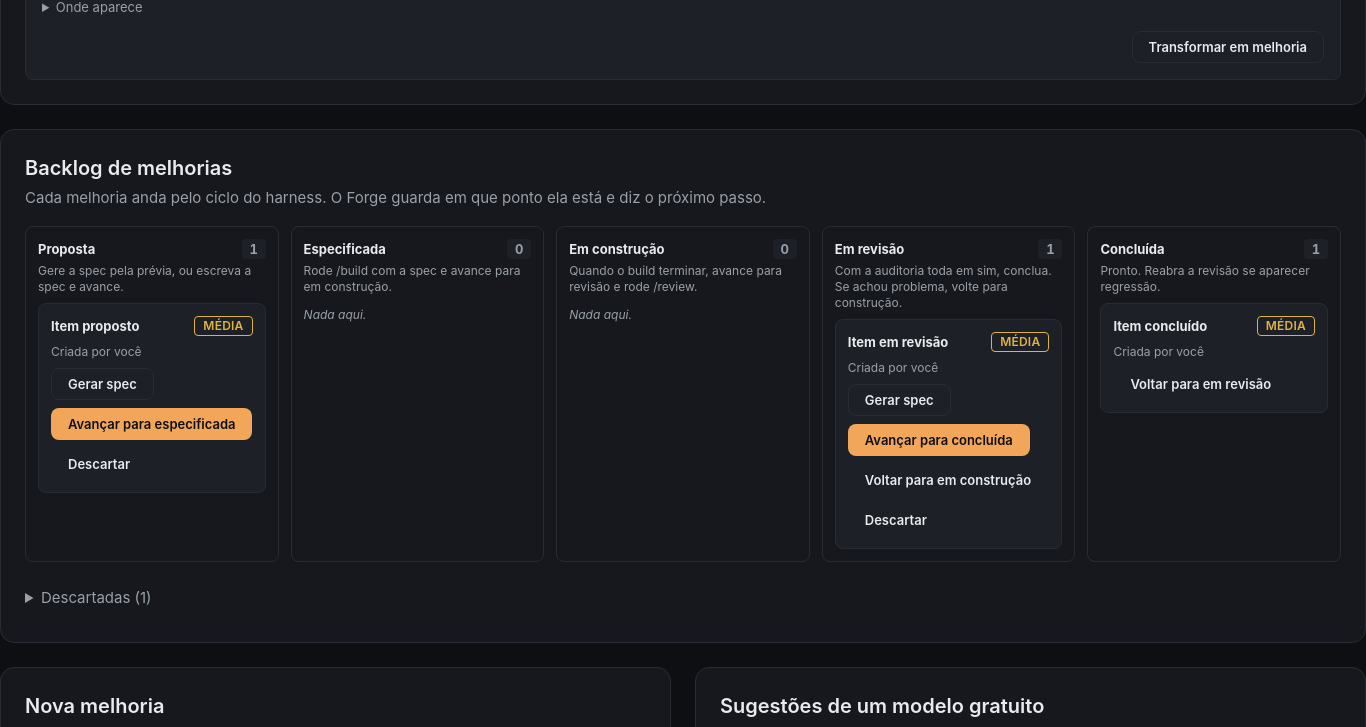
PaginaReforja: trilho do ciclo › transição recusada mostra o erro do servidor
(page scrolled)
Click the button "Voltar para em revisão".
click(1201, 384)  # box [1113, 368, 1288, 400]
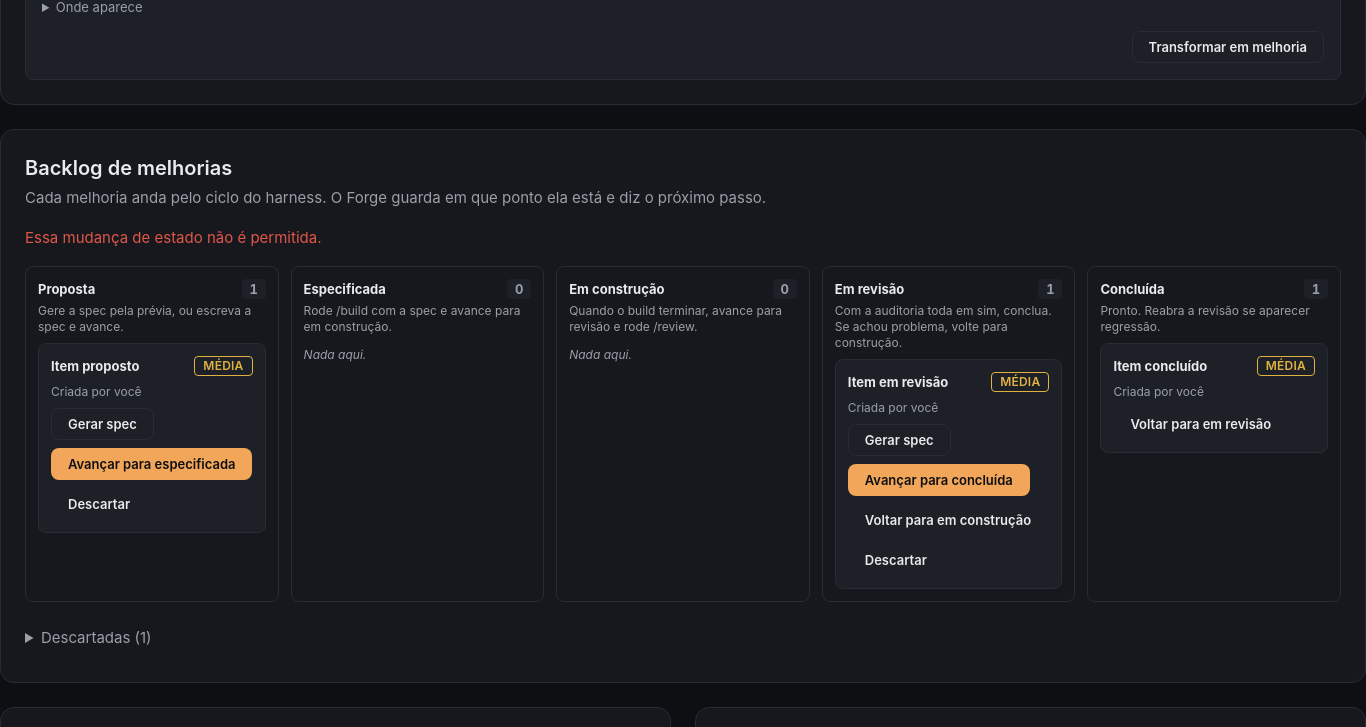
expect the message reads "Essa mudança de estado não é permitida.": met, box [25, 228, 322, 247]
